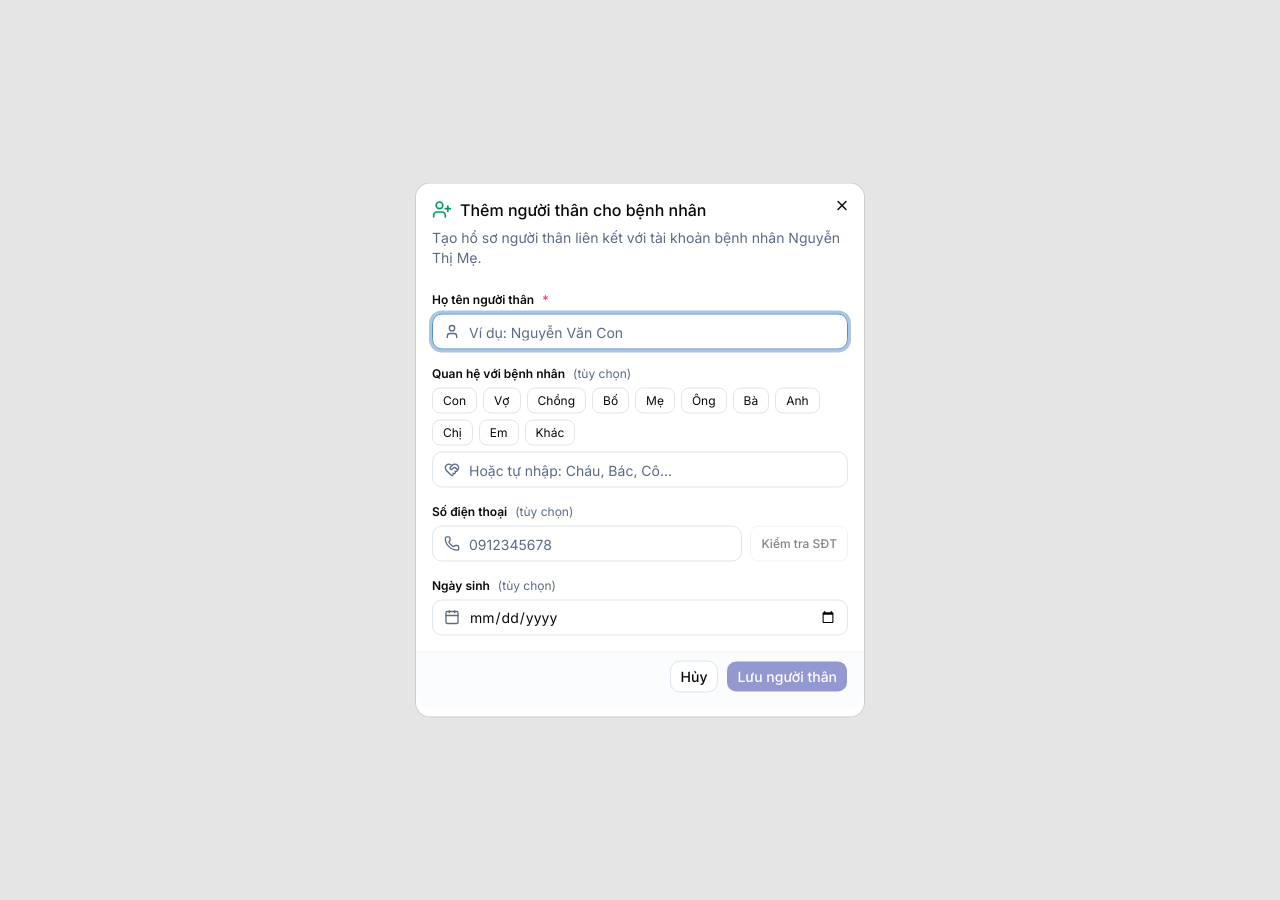
Scenario: AddRelativeModal › chọn nhanh mối quan hệ phổ biến (Con, Vợ, Chồng...)
Click the button "Con". click: (455, 400)
box: [432, 388, 477, 414]
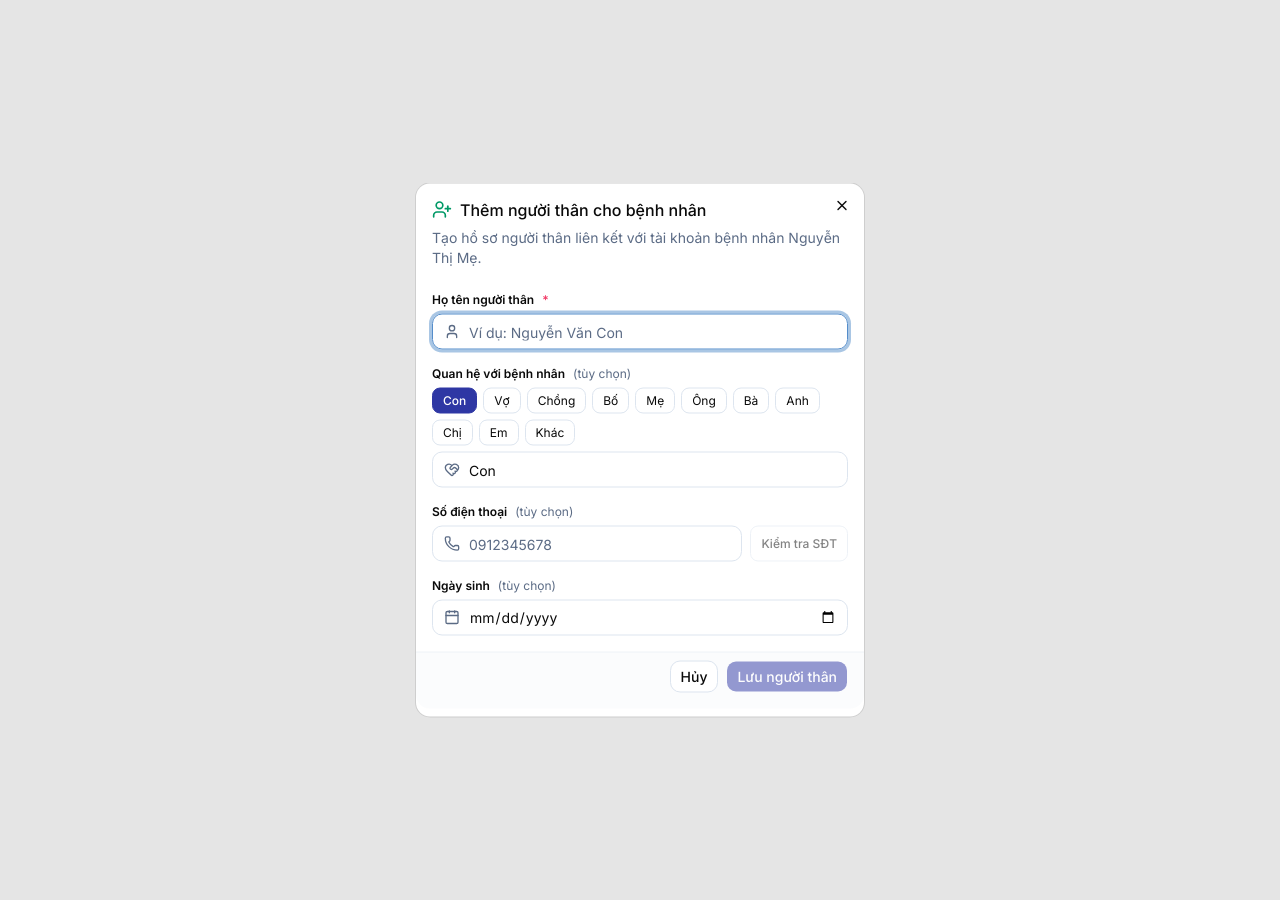
Check: the field with placeholder "Hoặc tự nhập: Cháu, Bác, Cô..." holds "Con", box [432, 452, 848, 488]
